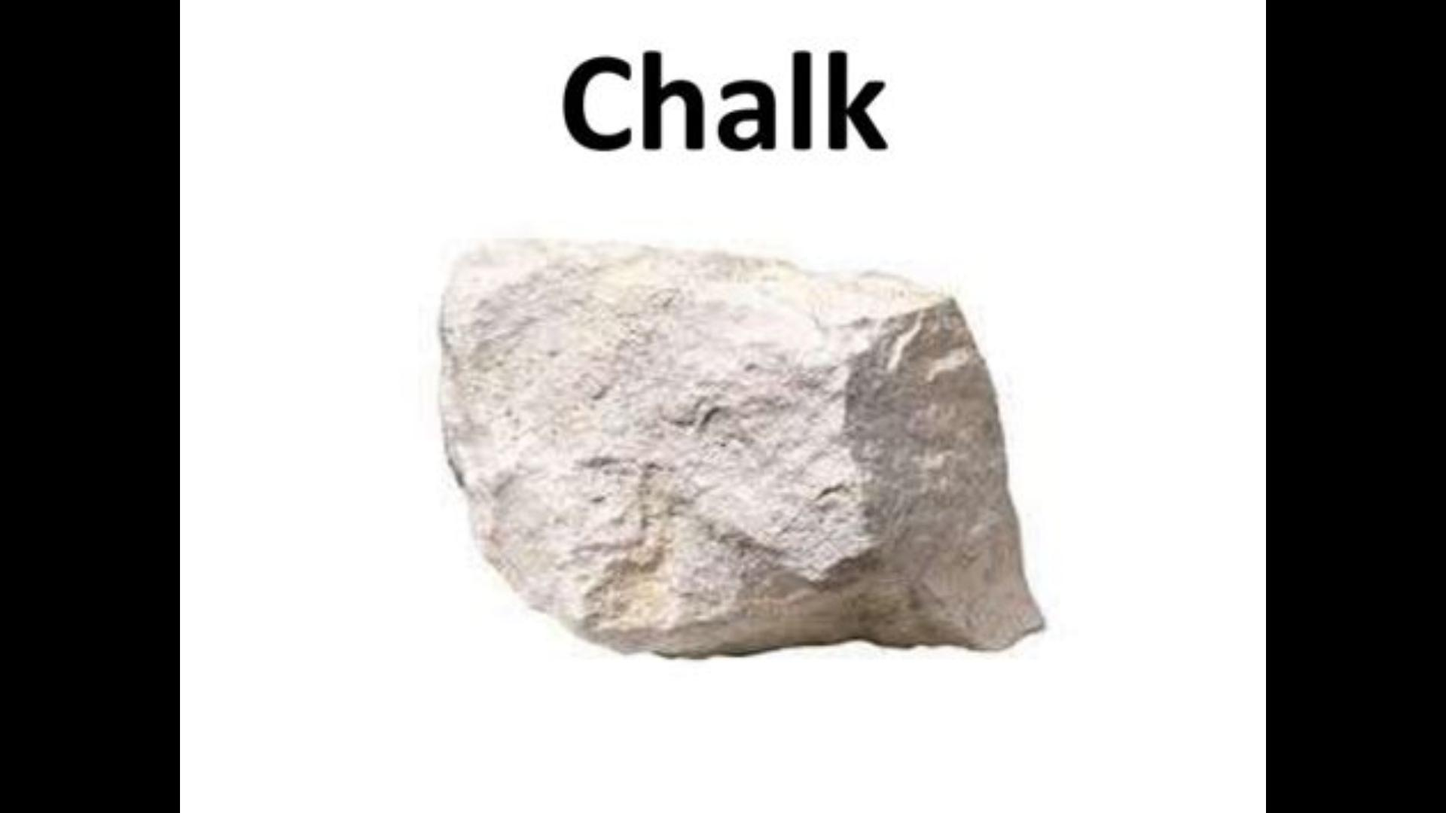rock: (443, 243, 1039, 653)
